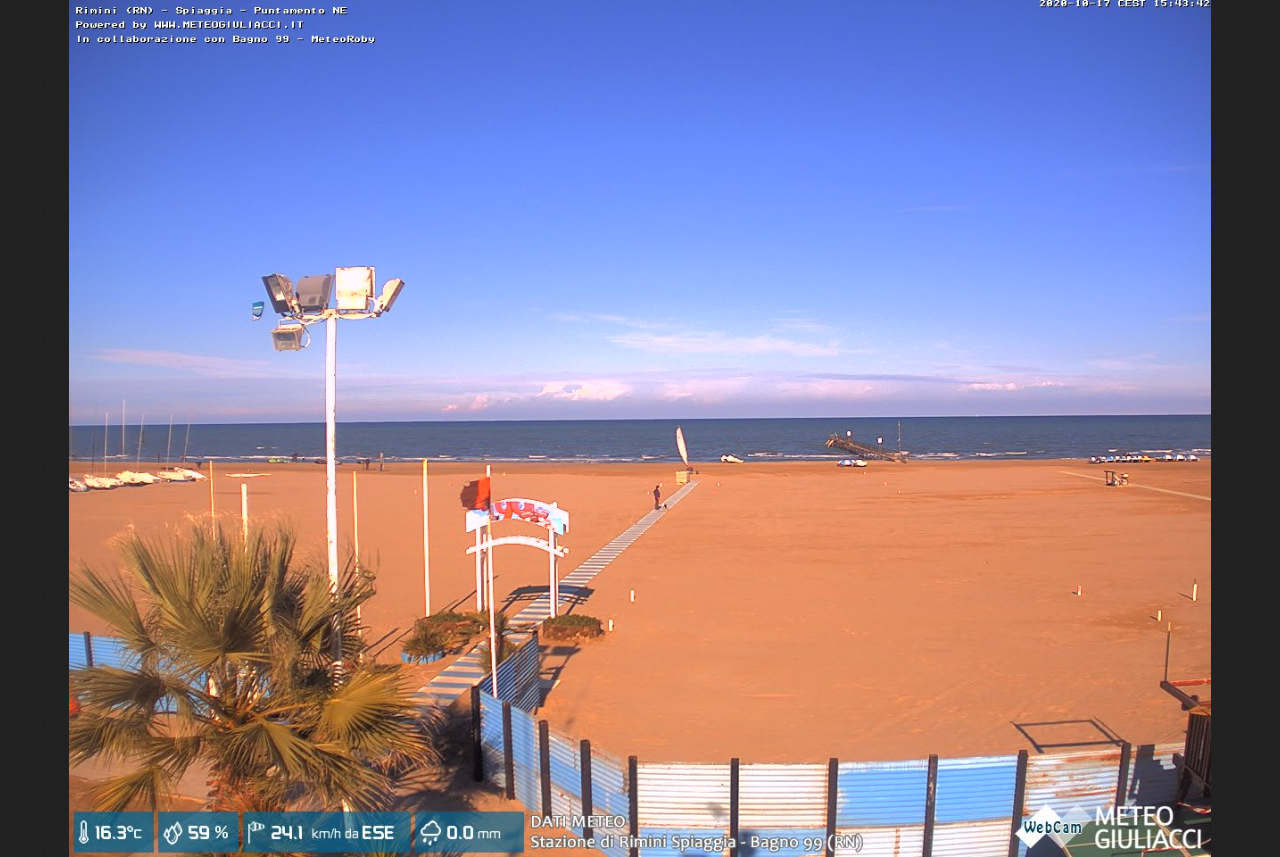yes: (460, 476, 493, 518)
